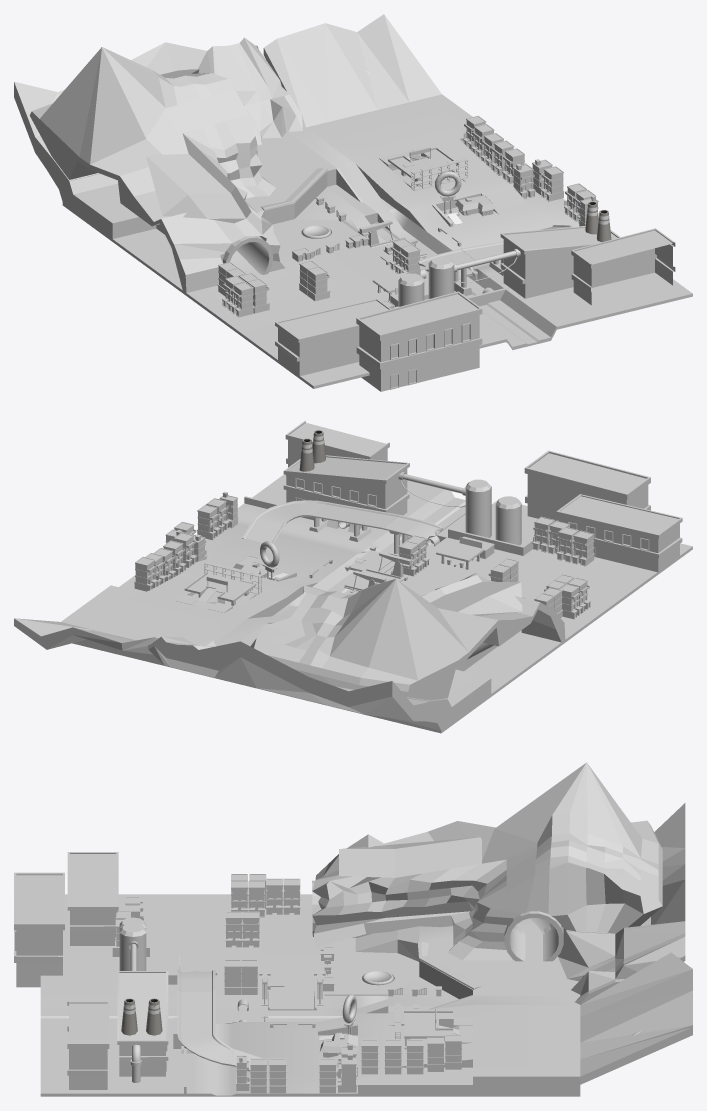
Rendered from mapwithprops.FBX.
3 views of the same model, one above another, from view 1: azimuth 30°, elevation 25°; view 2: azimuth 150°, elevation 25°; view 3: azimuth 270°, elevation 25° (orthographic). The views are drawn at different scales.
Visible parts, largest first — view 1: Box136, Homemade_Mountain, Box294, Box293, Box285, Box295, Box157, Tube003, Cylinder037, Cylinder038, Box152, Box151 (+1 smaller); view 2: Box136, Homemade_Mountain, Box293, Box285, Box294, Box295, Box219, Box157, Cylinder037, Box215, Cylinder038, Box151 (+3 smaller); view 3: Box136, Homemade_Mountain, Box294, Box293, Box285, Box295, Tube003, Box215, Box157, Box219, Box151, Cylinder037 (+6 smaller).
Boxes of the visible parts, x1=… form: Box136: x1=14, y1=14, x2=692, y2=388; Homemade_Mountain: x1=29, y1=47, x2=285, y2=292; Box294: x1=356, y1=291, x2=482, y2=391; Box293: x1=275, y1=298, x2=391, y2=376; Box285: x1=500, y1=226, x2=620, y2=298; Box295: x1=571, y1=228, x2=675, y2=305; Box157: x1=388, y1=147, x2=459, y2=187; Tube003: x1=223, y1=148, x2=273, y2=274; Cylinder037: x1=428, y1=256, x2=454, y2=298; Cylinder038: x1=398, y1=273, x2=424, y2=306; Box152: x1=454, y1=195, x2=496, y2=216; Box151: x1=358, y1=220, x2=426, y2=260; Box136: x1=14, y1=474, x2=692, y2=733; Homemade_Mountain: x1=250, y1=573, x2=565, y2=700; Box293: x1=556, y1=494, x2=682, y2=572; Box285: x1=283, y1=455, x2=409, y2=515; Box294: x1=524, y1=450, x2=650, y2=521; Box295: x1=285, y1=420, x2=389, y2=467; Box219: x1=242, y1=500, x2=327, y2=543; Box157: x1=184, y1=572, x2=256, y2=608; Cylinder037: x1=465, y1=479, x2=491, y2=538; Box215: x1=309, y1=502, x2=398, y2=528; Cylinder038: x1=495, y1=496, x2=521, y2=545; Box151: x1=344, y1=551, x2=413, y2=592; Box136: x1=40, y1=803, x2=692, y2=1096; Homemade_Mountain: x1=312, y1=762, x2=662, y2=960; Box294: x1=14, y1=872, x2=64, y2=987; Box293: x1=67, y1=852, x2=118, y2=945; Box285: x1=117, y1=971, x2=168, y2=1076; Box295: x1=67, y1=1001, x2=109, y2=1089; Tube003: x1=312, y1=880, x2=563, y2=961; Box215: x1=177, y1=990, x2=215, y2=1035; Box157: x1=404, y1=1011, x2=472, y2=1049; Box219: x1=177, y1=1033, x2=262, y2=1071; Box151: x1=259, y1=966, x2=325, y2=1010; Cylinder037: x1=119, y1=923, x2=146, y2=970.
Bounding box in the file's own units: 14653 × 6123 × 20885.
